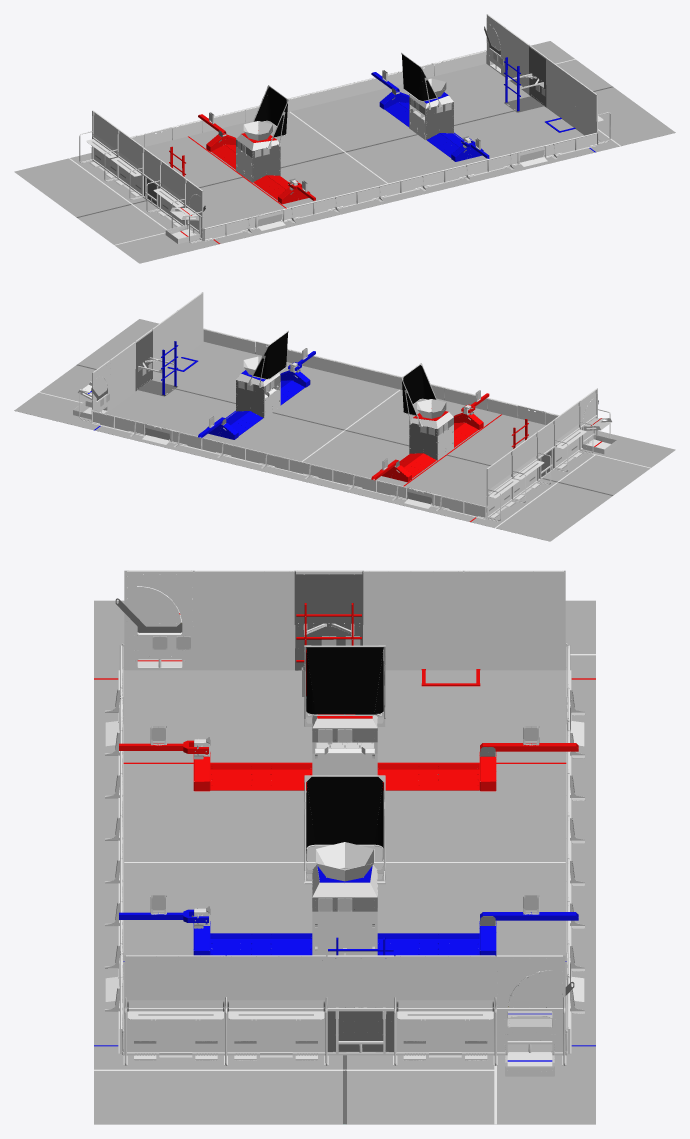
Rendered from field.glb.
3 renders of one model, top to bottom at view 1: azimuth 30°, elevation 25°; view 2: azimuth 150°, elevation 25°; view 3: azimuth 270°, elevation 25°, orthographic. The views are drawn at different scales.
Visible parts, largest first — view 1: GE-26213: Trench Side Skirt.003; view 2: GE-26213: Trench Side Skirt.003; view 3: GE-26213: Trench Side Skirt.003.
Boxes of the visible parts, box(x1,y1,x2,y2) form: GE-26213: Trench Side Skirt.003: box(14, 14, 675, 263); GE-26213: Trench Side Skirt.003: box(14, 292, 675, 541); GE-26213: Trench Side Skirt.003: box(94, 570, 595, 1124).
Bounding box in the file's own units: 22.56 × 3.06 × 9.14.
